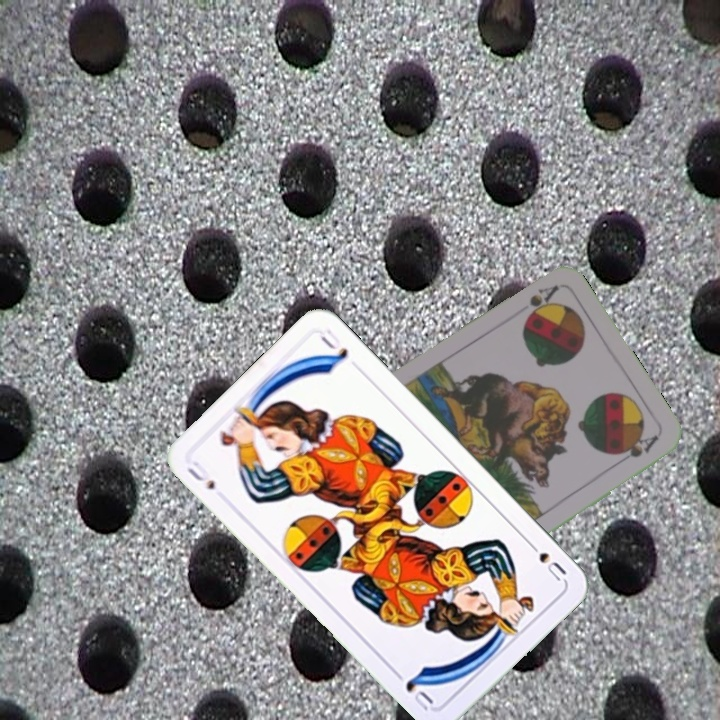SA: (521, 281, 561, 320)
SU: (522, 536, 569, 584), (182, 456, 218, 492)
